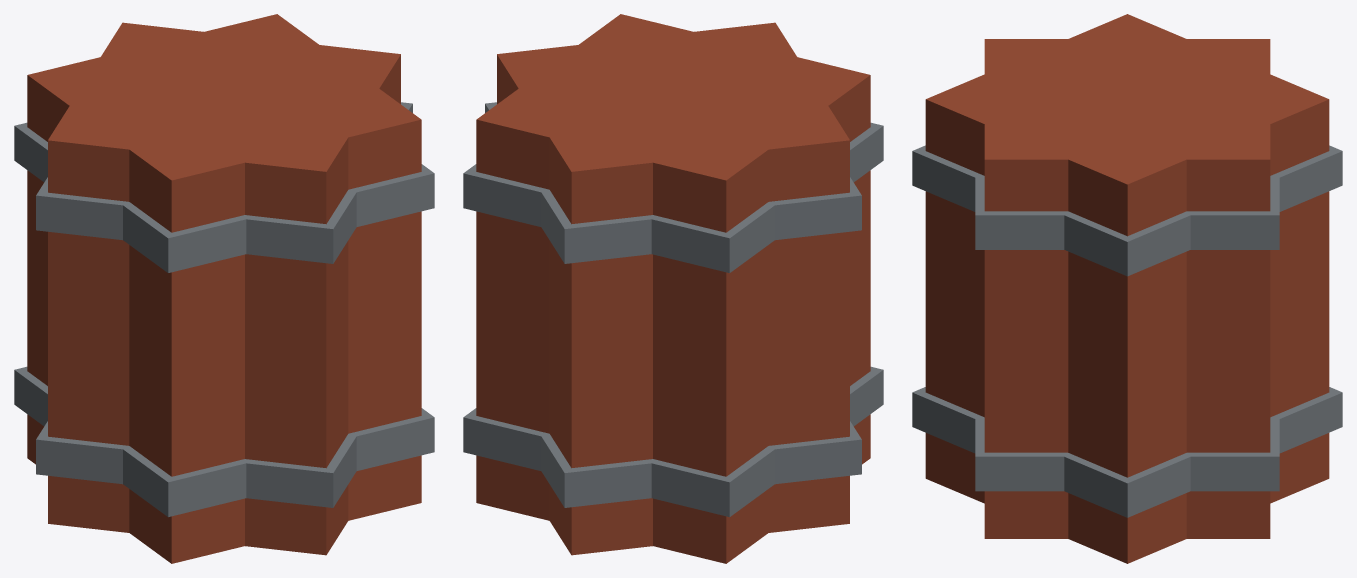
Rendered from dd_barrel.glb.
3 renders of one model, left to right at view 1: azimuth 30°, elevation 25°; view 2: azimuth 150°, elevation 25°; view 3: azimuth 270°, elevation 25°, orthographic.
Parts seen in each view (by area): view 1: DUBG_dd_barrel; view 2: DUBG_dd_barrel; view 3: DUBG_dd_barrel.
Boxes of the visible parts, x1,y1,x2,y2 form: DUBG_dd_barrel: (14, 14, 434, 563); DUBG_dd_barrel: (463, 14, 883, 563); DUBG_dd_barrel: (912, 14, 1342, 563).
Bounding box in the file's own units: 2.64 × 2.56 × 2.64.
